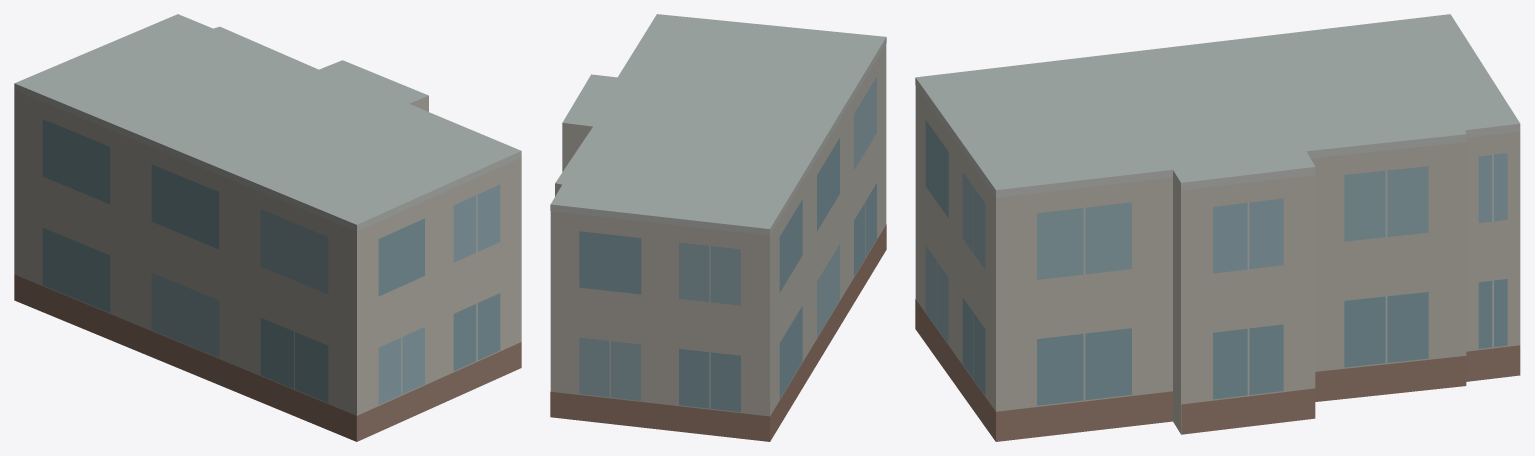
File: survey-upis-32979815.glb
3 views of the same model, side by side, from view 1: azimuth 30°, elevation 25°; view 2: azimuth 150°, elevation 25°; view 3: azimuth 270°, elevation 25° (orthographic). The views are drawn at different scales.
Visible parts, largest first — view 1: survey-upis-32979815.tmp; view 2: survey-upis-32979815.tmp; view 3: survey-upis-32979815.tmp.
Boxes of the visible parts, bbox=[...] form: survey-upis-32979815.tmp: bbox=[14, 14, 521, 441]; survey-upis-32979815.tmp: bbox=[550, 14, 886, 441]; survey-upis-32979815.tmp: bbox=[915, 14, 1520, 441].
Bounding box in the file's own units: 11.87 × 7.9 × 17.22.
